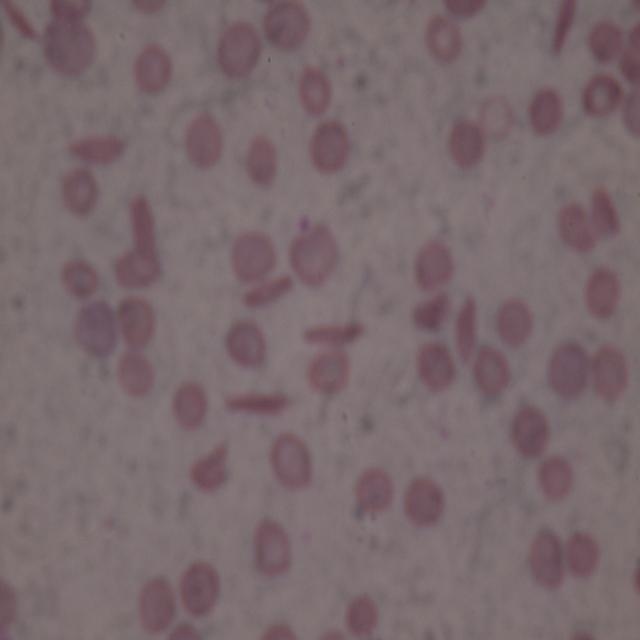Crystal: (225, 386, 297, 421), (125, 189, 158, 261), (449, 290, 480, 366), (548, 0, 585, 58), (241, 269, 294, 308), (300, 320, 370, 348), (0, 0, 43, 45), (68, 133, 126, 166), (112, 253, 162, 287)
Others: (41, 17, 99, 80), (288, 224, 339, 290), (251, 513, 296, 583), (73, 300, 118, 364), (269, 432, 314, 494), (545, 340, 590, 401), (260, 0, 311, 53), (590, 343, 630, 408), (178, 562, 221, 621), (220, 22, 262, 82), (221, 320, 268, 373), (306, 347, 353, 400), (526, 527, 566, 589), (414, 240, 456, 299), (400, 475, 445, 530), (189, 438, 231, 496), (57, 165, 101, 219), (232, 228, 276, 282), (130, 42, 172, 96), (137, 576, 176, 634), (184, 114, 224, 170), (424, 12, 464, 68), (310, 120, 349, 177), (116, 297, 156, 352), (510, 407, 550, 461), (117, 351, 157, 404), (446, 116, 485, 170), (474, 344, 511, 400), (578, 74, 622, 121), (416, 343, 457, 393), (554, 204, 594, 255), (584, 267, 622, 319), (566, 528, 602, 582), (354, 463, 390, 516), (60, 255, 101, 301), (296, 65, 332, 117), (589, 176, 619, 238), (172, 383, 210, 429), (588, 17, 627, 61), (497, 296, 531, 346), (343, 592, 379, 638), (244, 135, 277, 184), (530, 86, 561, 137), (539, 451, 570, 502), (412, 296, 450, 332)
